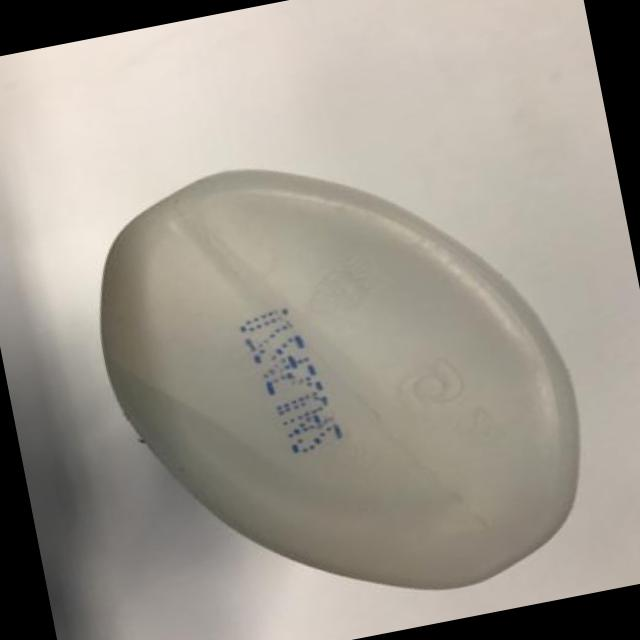plastic: (101, 170, 577, 588)
